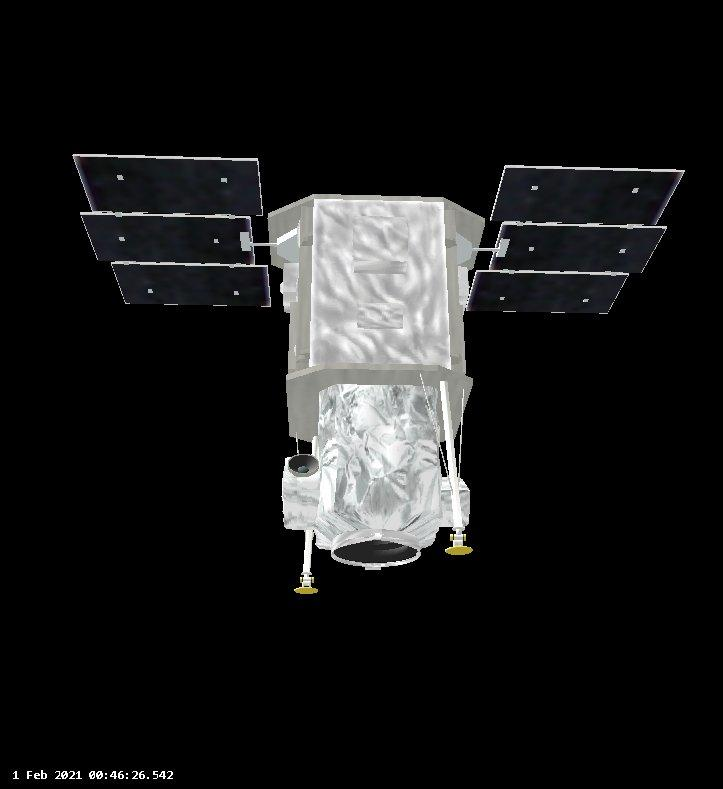antenna: (438, 541, 479, 561), (287, 582, 323, 597)
body: (266, 192, 487, 553)
solar: (69, 151, 267, 218), (488, 163, 687, 226), (486, 222, 673, 276), (79, 211, 257, 263), (464, 271, 633, 318), (112, 260, 272, 307)
